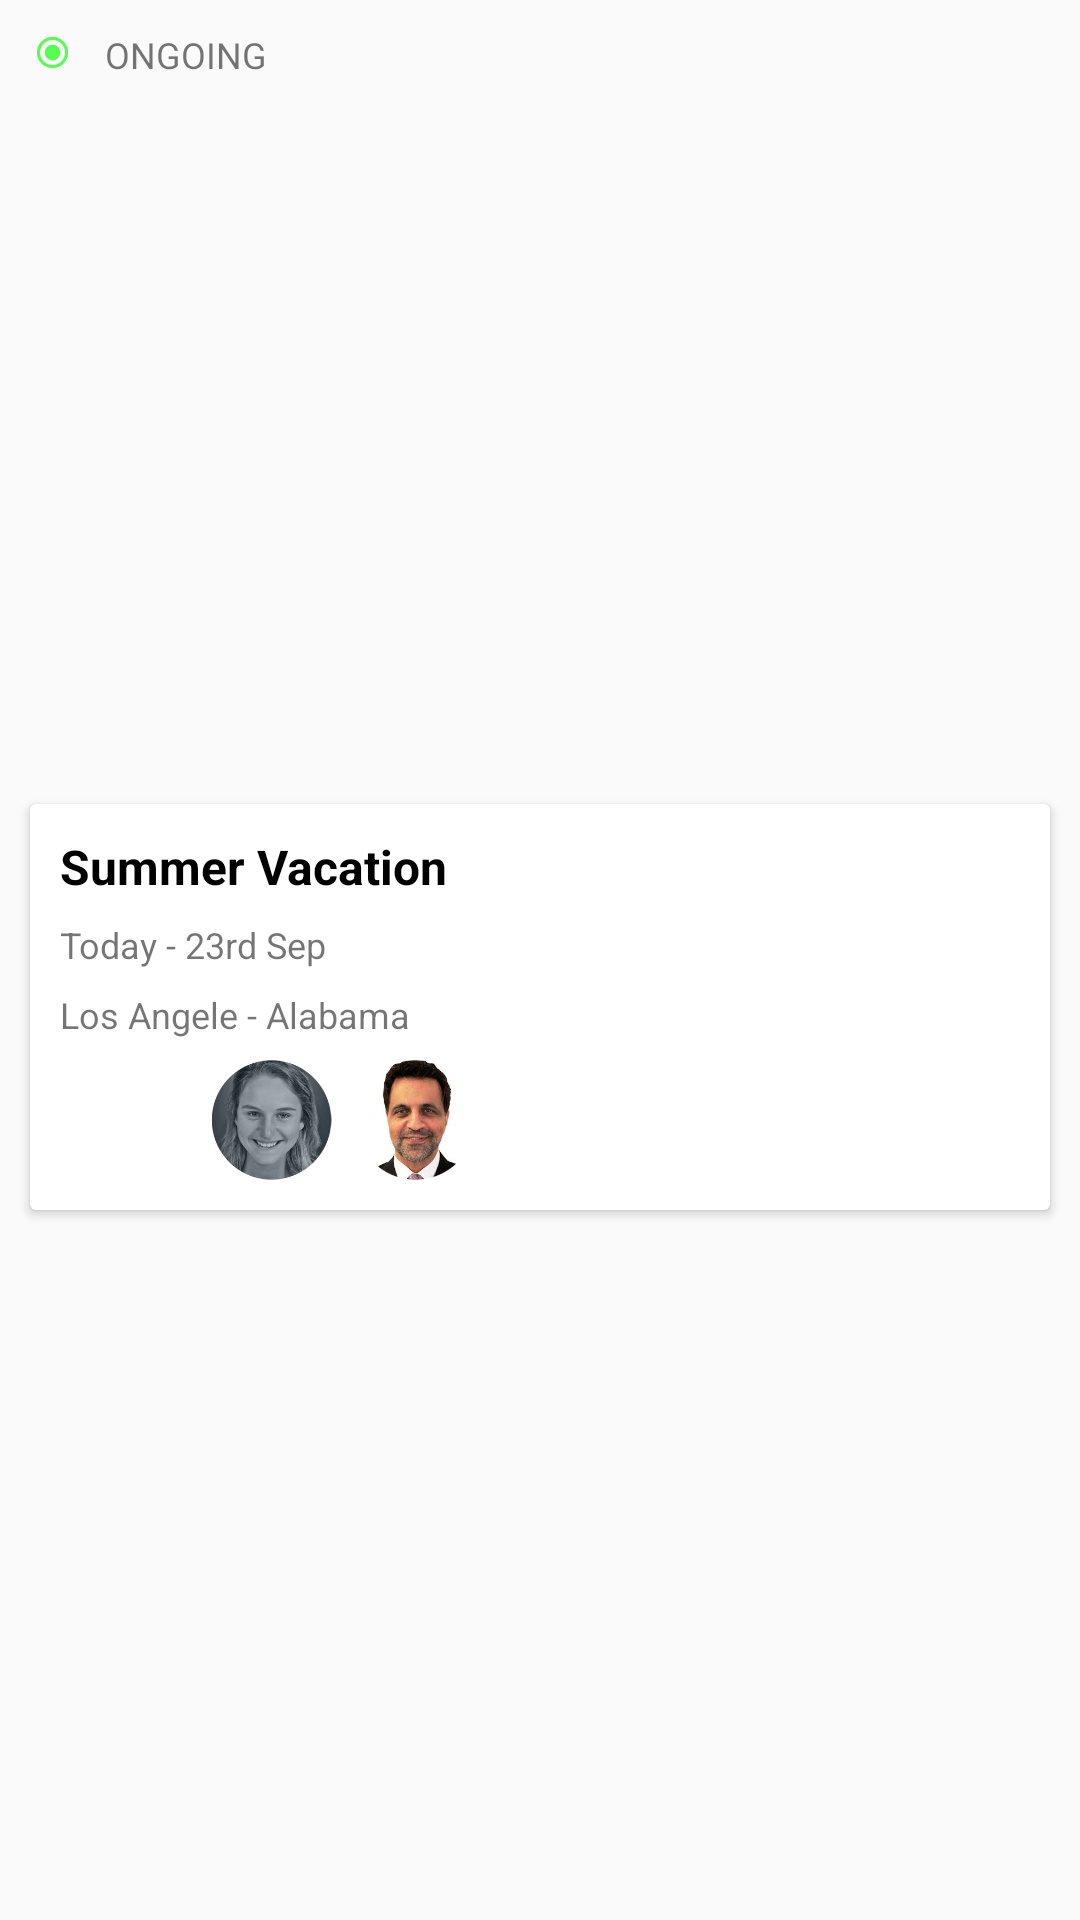

Icons on this 1080*1920 Android screen, each with the point to tap as (x,y):
person: (272,1120), (417,1120)
radiobuttonicon: (52,52)
